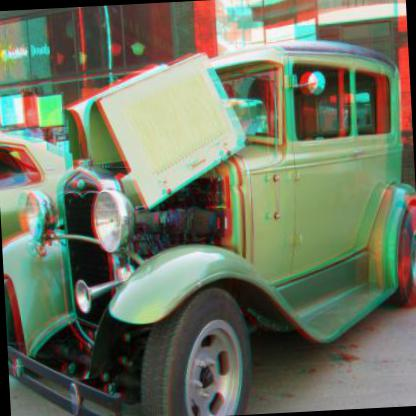car: (0, 24, 415, 415), (0, 128, 85, 289)
